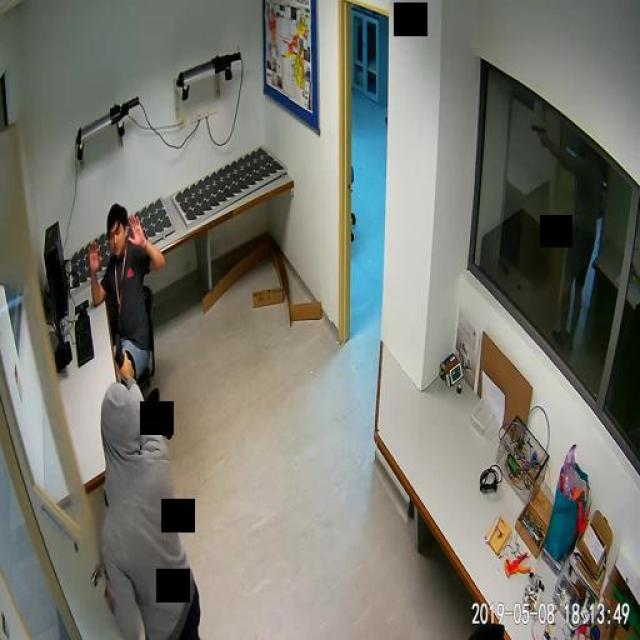gun: (109, 330, 132, 372)
